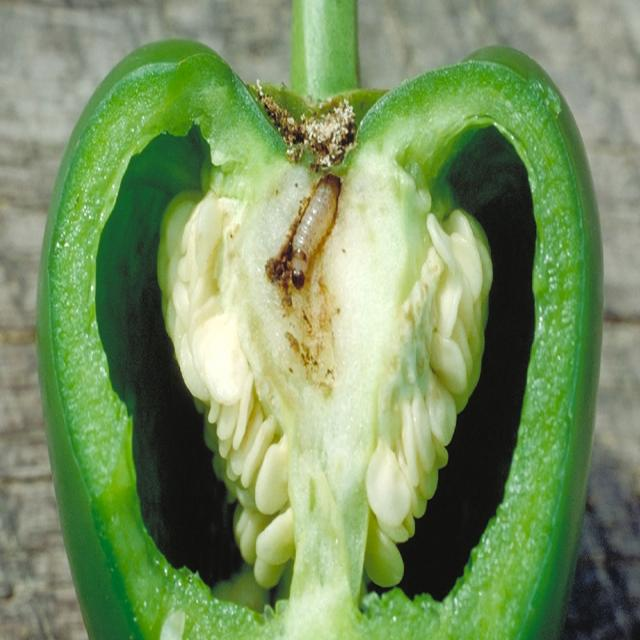cornborer-Larva-: (285, 166, 346, 296)
